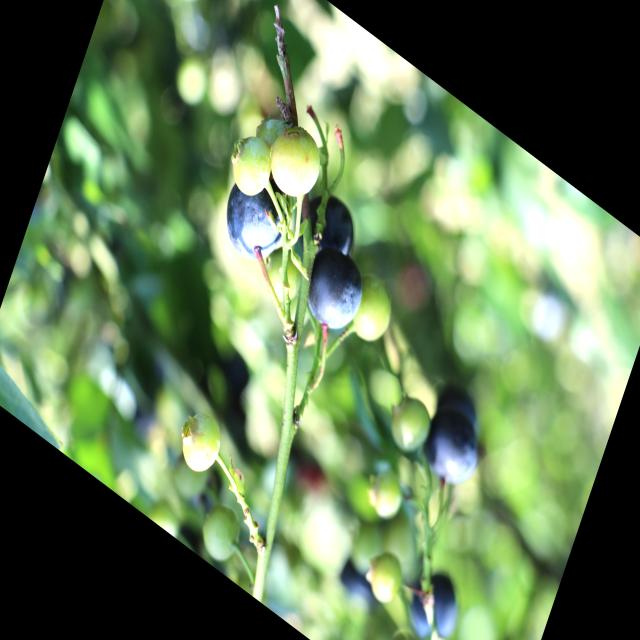blueberry: (216, 168, 290, 274), (414, 396, 488, 500), (298, 238, 370, 344), (400, 553, 468, 640), (299, 185, 361, 267)
blueberry-halfripe: (259, 113, 328, 211), (172, 401, 228, 485), (223, 125, 276, 202), (347, 274, 398, 352), (384, 387, 435, 464), (196, 492, 245, 563), (361, 543, 408, 613), (366, 469, 407, 523)
